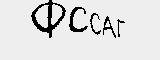А: (100, 15, 117, 39)
Г: (114, 16, 126, 39)
С: (69, 5, 88, 32), (90, 10, 102, 34)
Ф: (29, 1, 65, 38)
